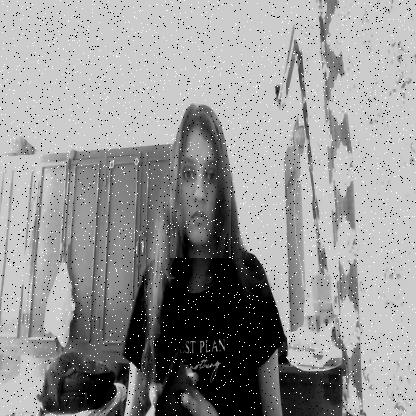Normal: (170, 102, 231, 258)
